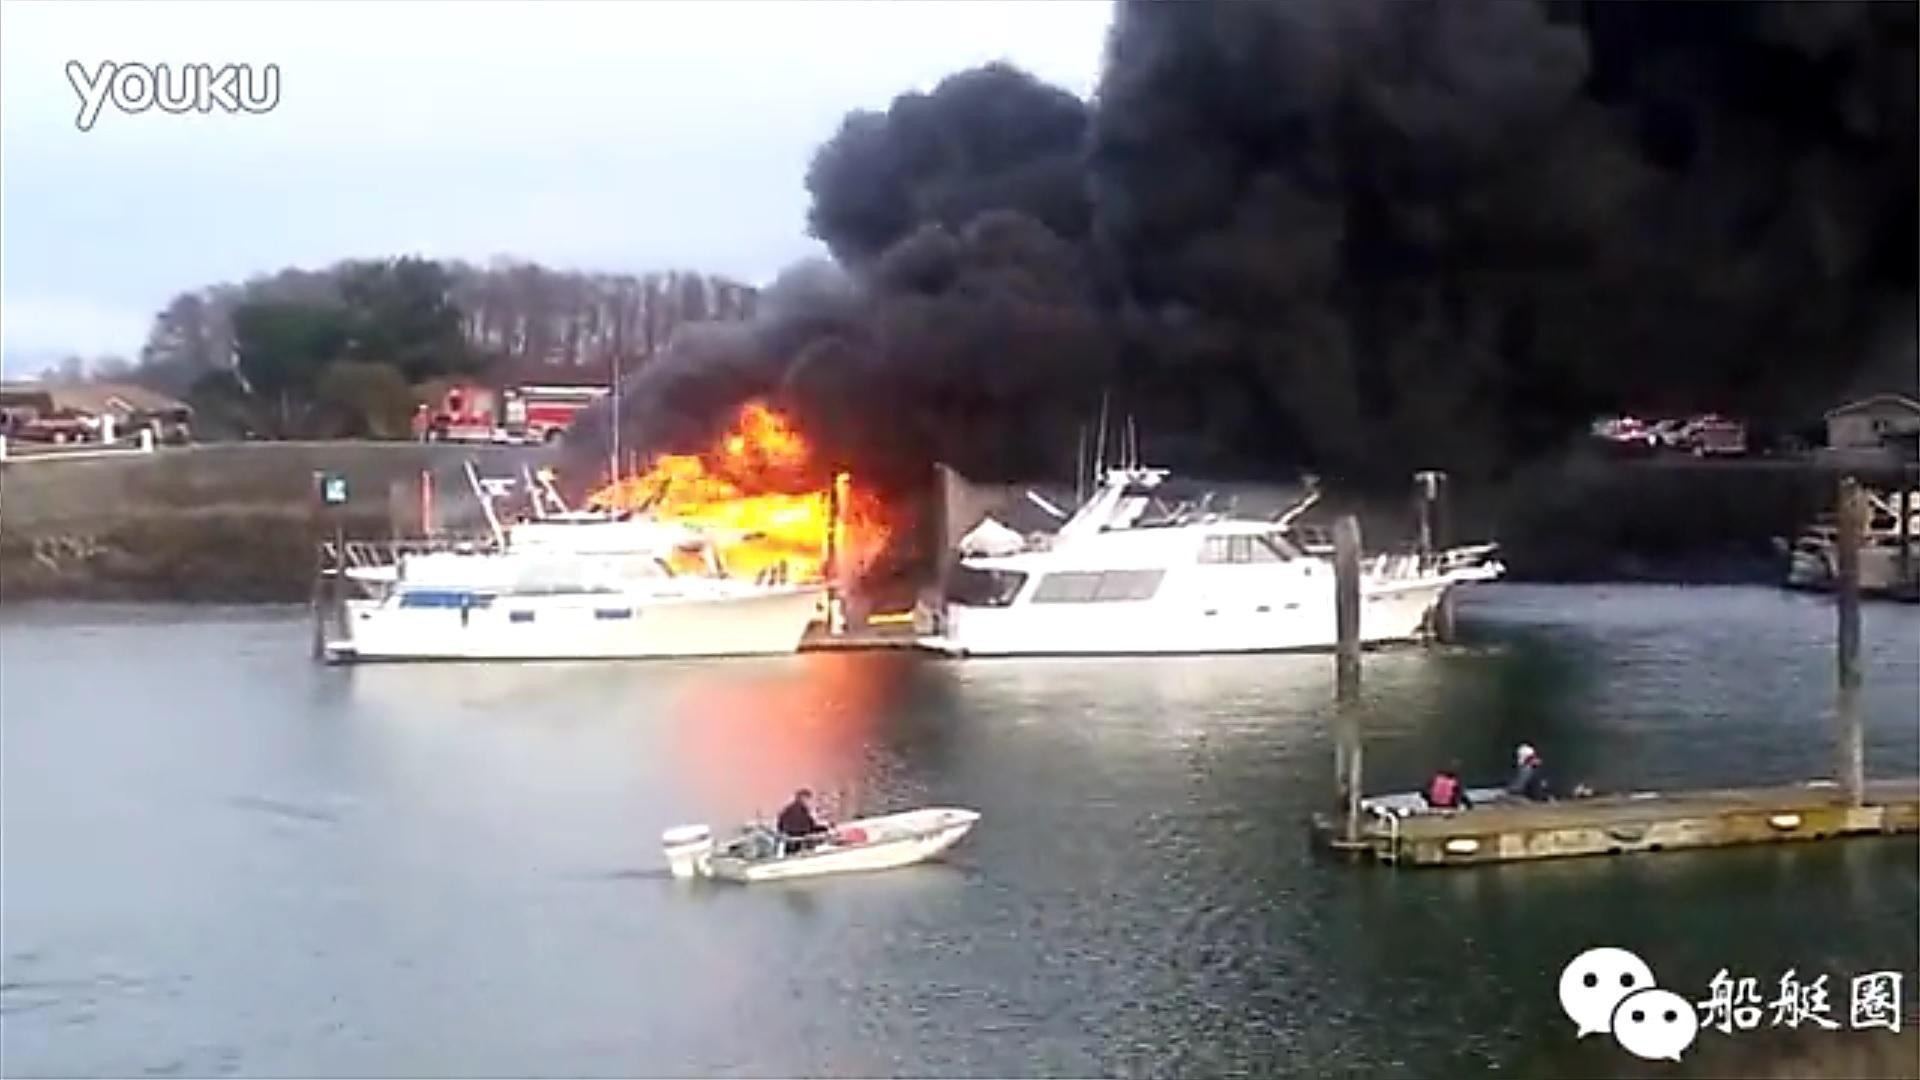fire: (593, 406, 874, 579)
